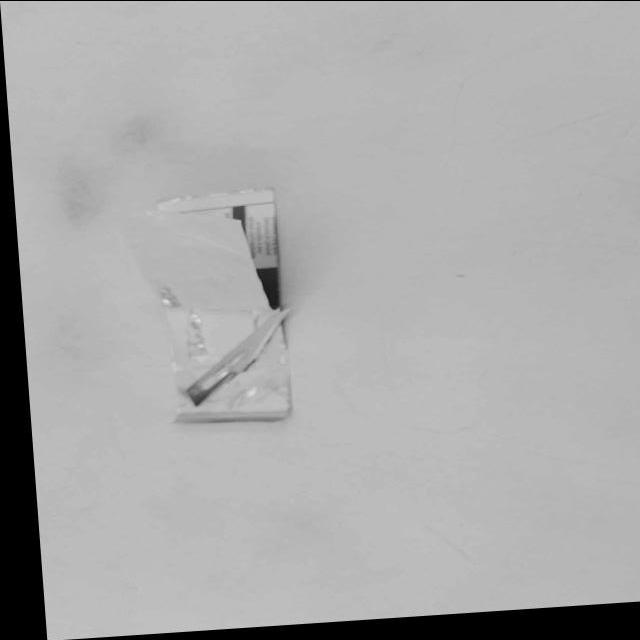General: (122, 183, 295, 423)
Sharps: (184, 304, 292, 405)
